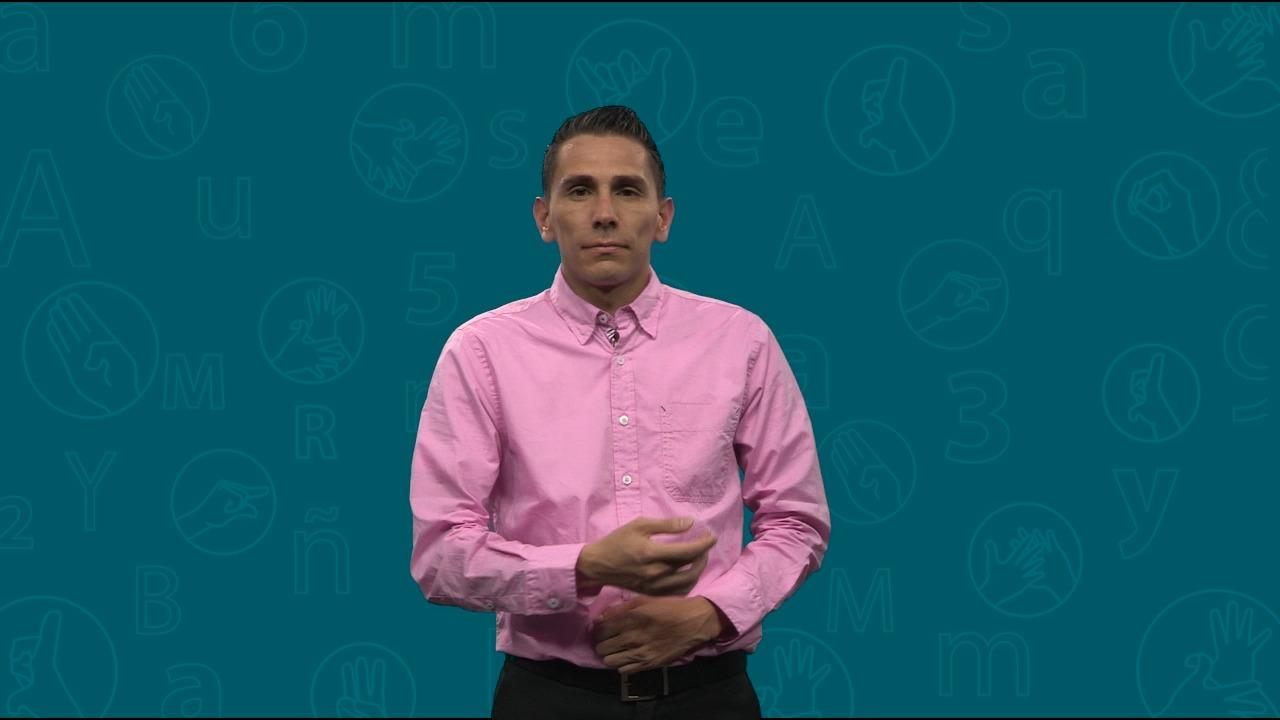Dolor: (348, 86, 915, 691)
